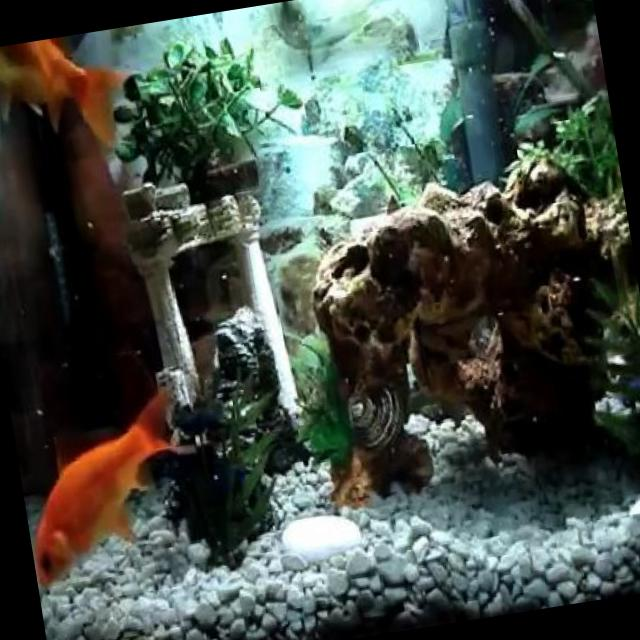GoldFish: (12, 382, 210, 594), (0, 27, 142, 169)
